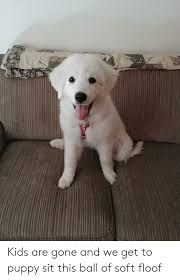dog_sitting: (43, 52, 145, 191)
